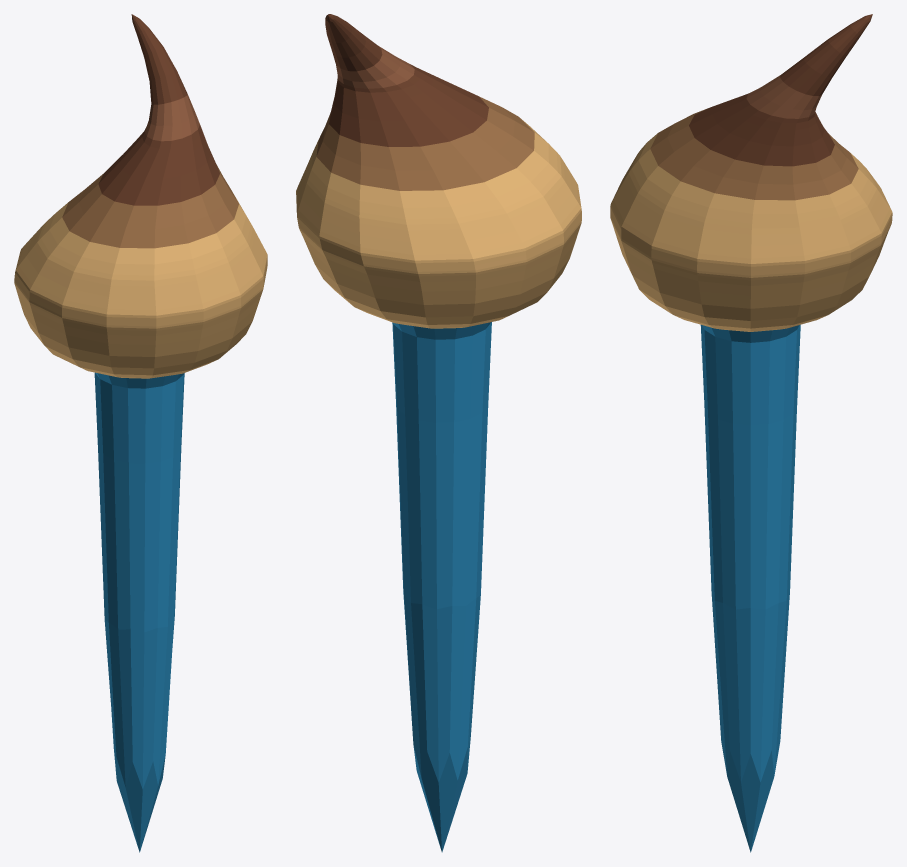
Rendered from Paintbrush.fbx.
3 renders of one model, left to right at view 1: azimuth 30°, elevation 25°; view 2: azimuth 150°, elevation 25°; view 3: azimuth 270°, elevation 25°, orthographic. The views are drawn at different scales.
Visible parts, largest first — view 1: Paintbrush; view 2: Paintbrush; view 3: Paintbrush.
Boxes of the visible parts, box(x1,y1,x2,y2) form: Paintbrush: box(14, 14, 267, 852); Paintbrush: box(296, 14, 581, 852); Paintbrush: box(610, 14, 892, 852).
Size of the model in its own units: 2.73 by 9.15 by 2.71.
